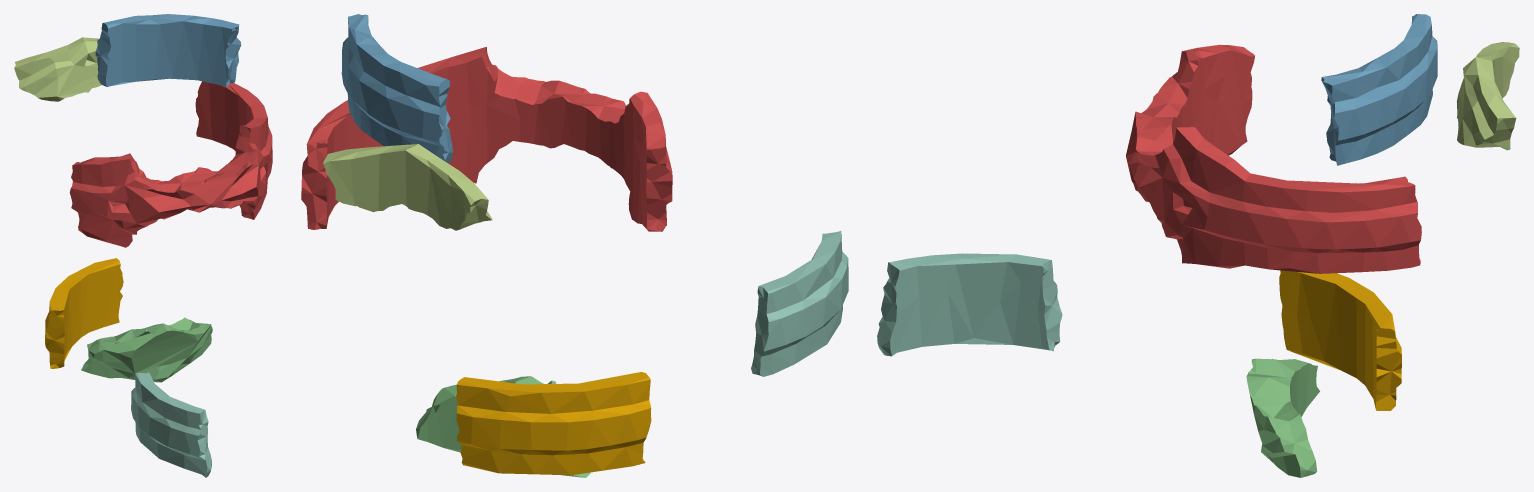
File: mode_7_6pcs_transformed.glb
3 views of the same model, side by side, from view 1: azimuth 30°, elevation 25°; view 2: azimuth 150°, elevation 25°; view 3: azimuth 270°, elevation 25° (orthographic). The views are drawn at different scales.
Visible parts, largest first — view 1: piece_1.obj, piece_2.obj, piece_3.obj, piece_0.obj, piece_4.obj, piece_5.obj; view 2: piece_1.obj, piece_0.obj, piece_2.obj, piece_5.obj, piece_4.obj, piece_3.obj; view 3: piece_1.obj, piece_4.obj, piece_0.obj, piece_2.obj, piece_3.obj, piece_5.obj.
Part boxes in pixels (x1,y1,x2,y2): piece_1.obj: (69,81,272,247); piece_2.obj: (95,14,241,86); piece_3.obj: (81,317,212,382); piece_0.obj: (45,258,123,368); piece_4.obj: (131,372,211,477); piece_5.obj: (14,37,101,101); piece_1.obj: (301,47,672,231); piece_0.obj: (456,372,651,475); piece_2.obj: (341,14,452,163); piece_5.obj: (323,144,492,230); piece_4.obj: (751,231,848,376); piece_3.obj: (416,376,590,477); piece_1.obj: (1126,44,1421,273); piece_4.obj: (877,253,1062,356); piece_0.obj: (1279,270,1401,410); piece_2.obj: (1321,14,1437,165); piece_3.obj: (1246,358,1319,477); piece_5.obj: (1457,42,1519,150).
Size of the model in its own units: 0.9505 by 1.25 by 1.63.
